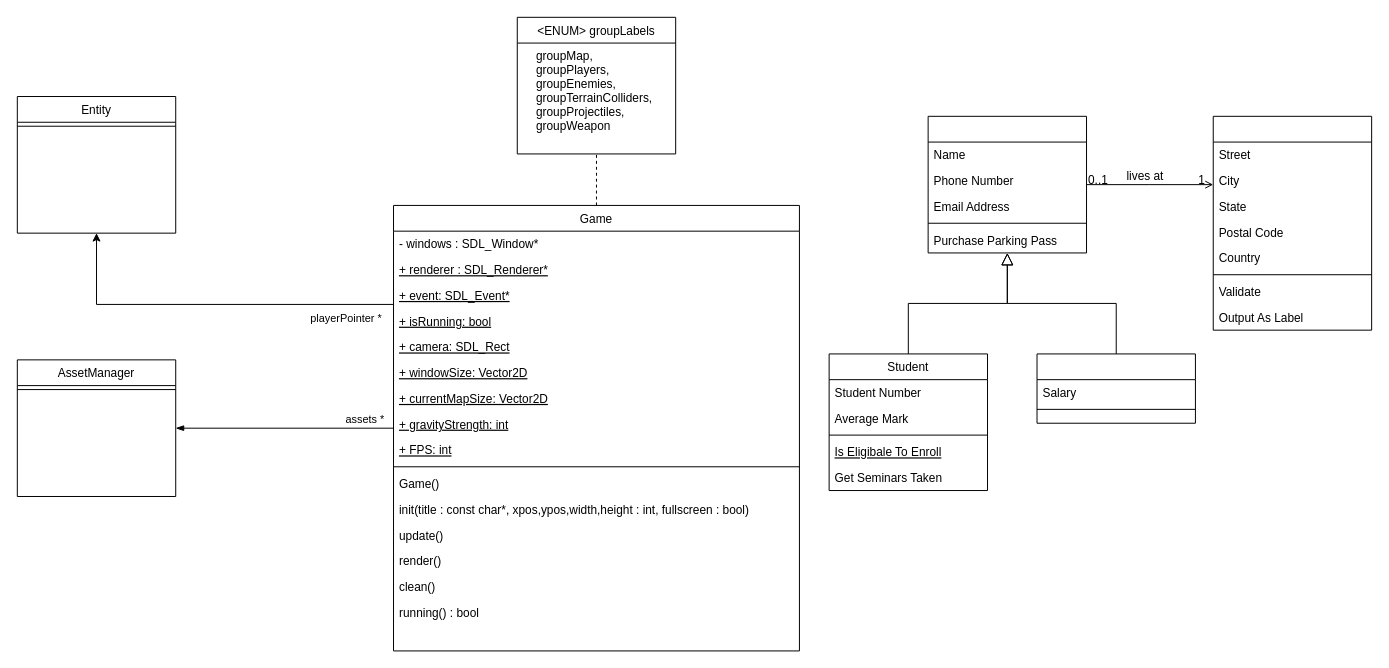
Some shapes in this 1389 by 668 pixel diagram are drawn without their labels. Each missing label, with the box of its shape:
Address: (1212, 115, 1372, 330)
Person: (927, 115, 1087, 253)
Professor: (1036, 353, 1195, 423)
